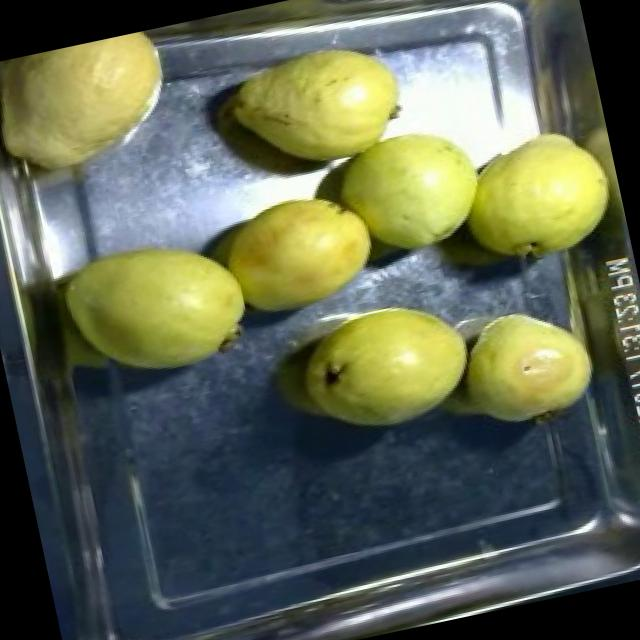Fruit: (190, 12, 432, 200), (46, 213, 268, 398), (274, 278, 490, 454), (184, 166, 396, 336), (0, 24, 199, 196), (434, 106, 630, 278), (307, 102, 500, 274), (443, 286, 609, 444)
